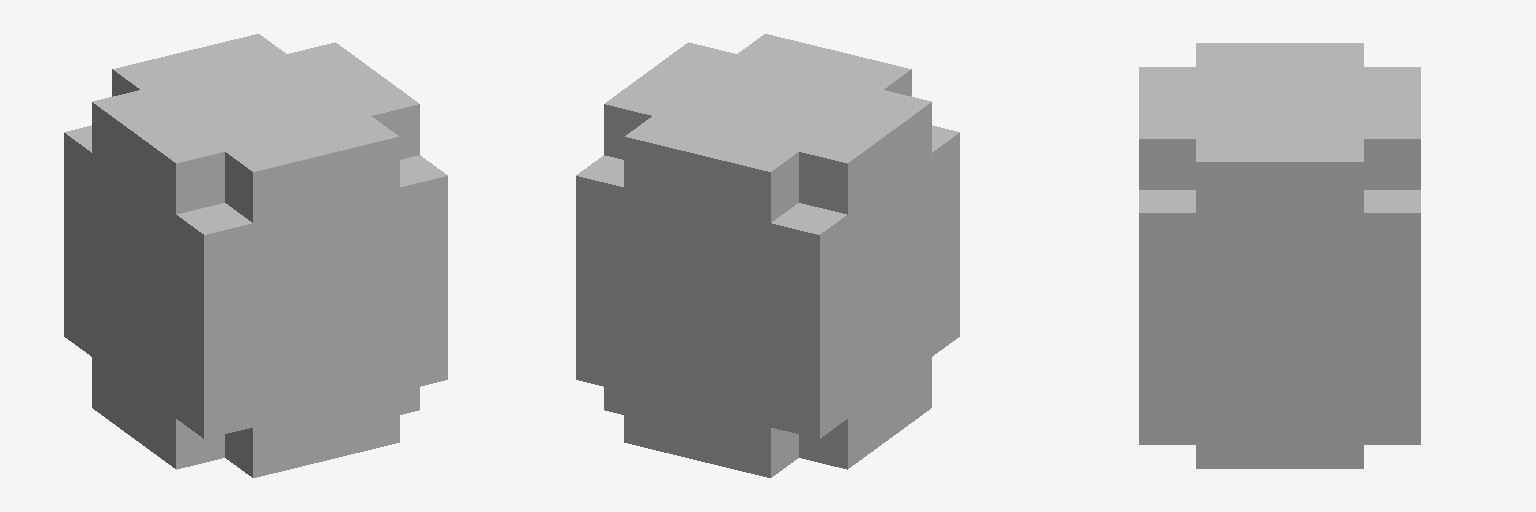
Rendered from obj-barrel.obj.
3 views of the same model, side by side, from view 1: azimuth 30°, elevation 25°; view 2: azimuth 150°, elevation 25°; view 3: azimuth 270°, elevation 25° (orthographic).
Visible parts, largest first — view 1: barrel; view 2: barrel; view 3: barrel.
Part boxes in pixels (x1,y1,x2,y2): barrel: (64, 34, 447, 477); barrel: (576, 34, 959, 477); barrel: (1139, 43, 1420, 468).
Bounding box in the file's own units: 0.5 × 0.6 × 0.5.